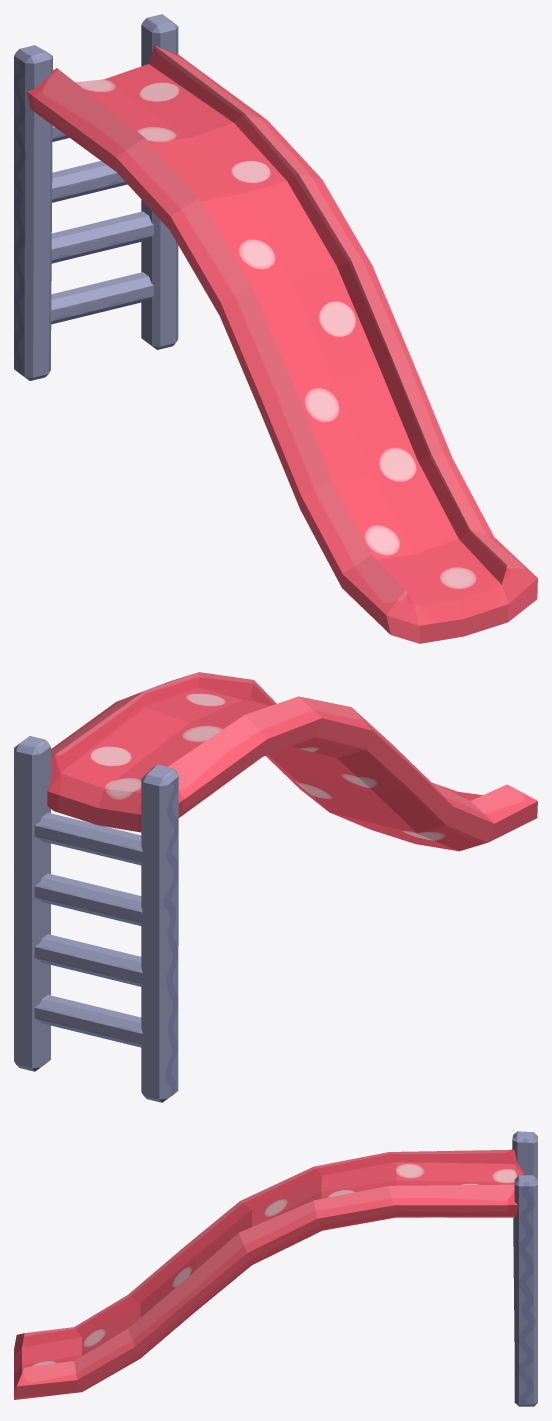
File: Slide.fbx
The picture shows the model from 3 angles, top to bottom: view 1: azimuth 30°, elevation 25°; view 2: azimuth 150°, elevation 25°; view 3: azimuth 270°, elevation 25°; orthographic projection. The views are drawn at different scales.
Visible parts, largest first — view 1: Cube; view 2: Cube; view 3: Cube.
Boxes of the visible parts, box(x1,y1,x2,y2) form: Cube: box(14, 14, 537, 643); Cube: box(14, 672, 537, 1102); Cube: box(14, 1131, 537, 1406).
Bounding box in the file's own units: 265 × 549 × 1124.
